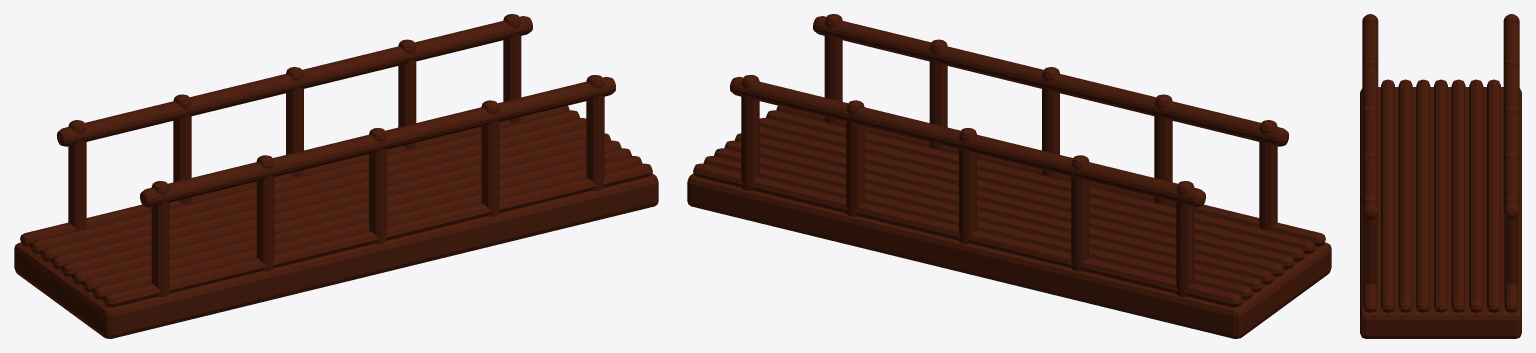
Rendered from puente_madera.obj.
3 views of the same model, side by side, from view 1: azimuth 30°, elevation 25°; view 2: azimuth 150°, elevation 25°; view 3: azimuth 270°, elevation 25° (orthographic). The views are drawn at different scales.
Visible parts, largest first — view 1: puente_madera; view 2: puente_madera; view 3: puente_madera.
Boxes of the visible parts, x1,y1,x2,y2 form: puente_madera: (14,14,658,338); puente_madera: (687,14,1331,338); puente_madera: (1360,14,1521,338).
Bounding box in the file's own units: 3.7 × 0.905 × 1.1.
